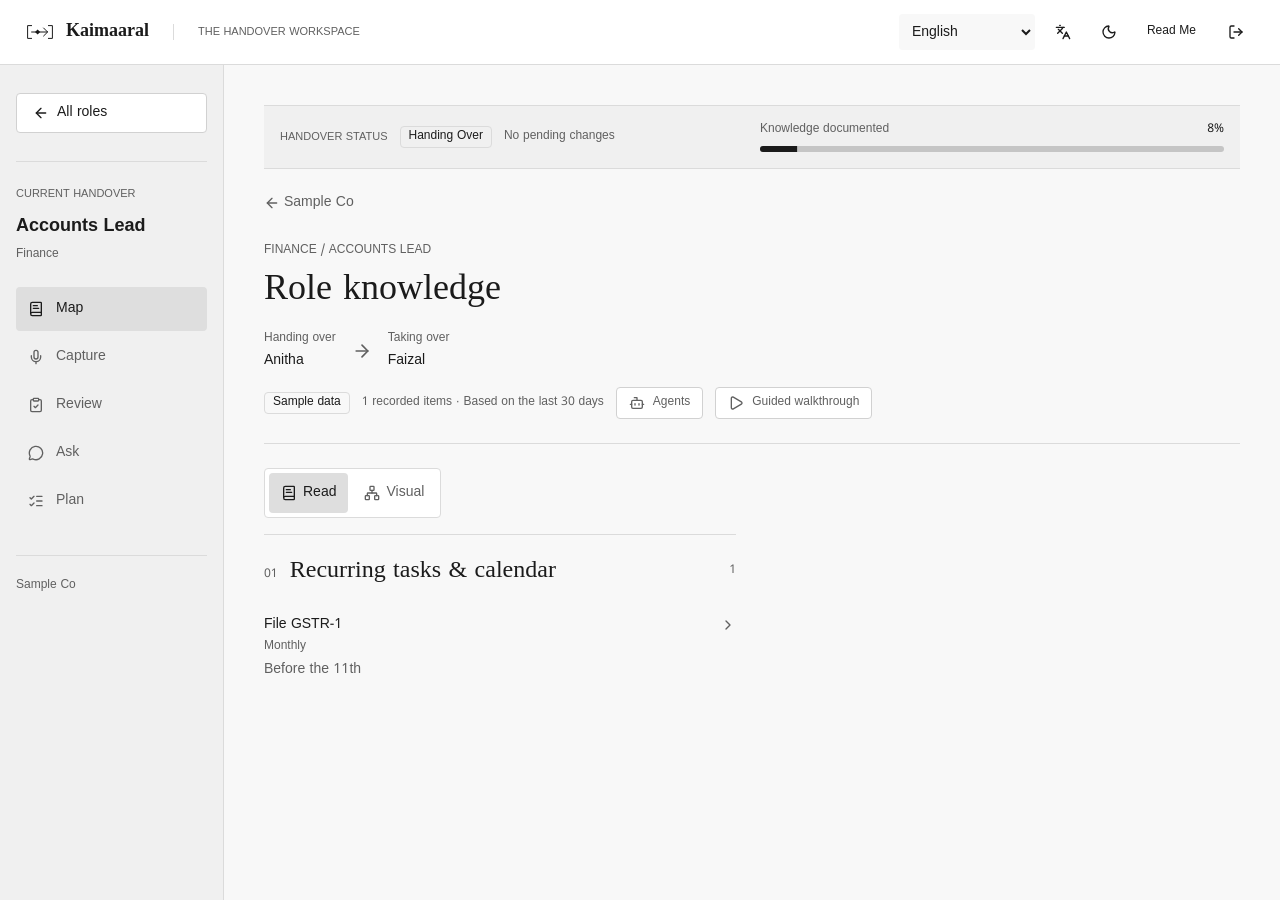
Test case: Role page tabs › Capture tab opens the recorder
This screenshot has width=1280, height=900.
What coordinates should you click on to do the following:
click the tab "Capture"
I would click on:
 (112, 357)
Its box is [16,335,207,379].
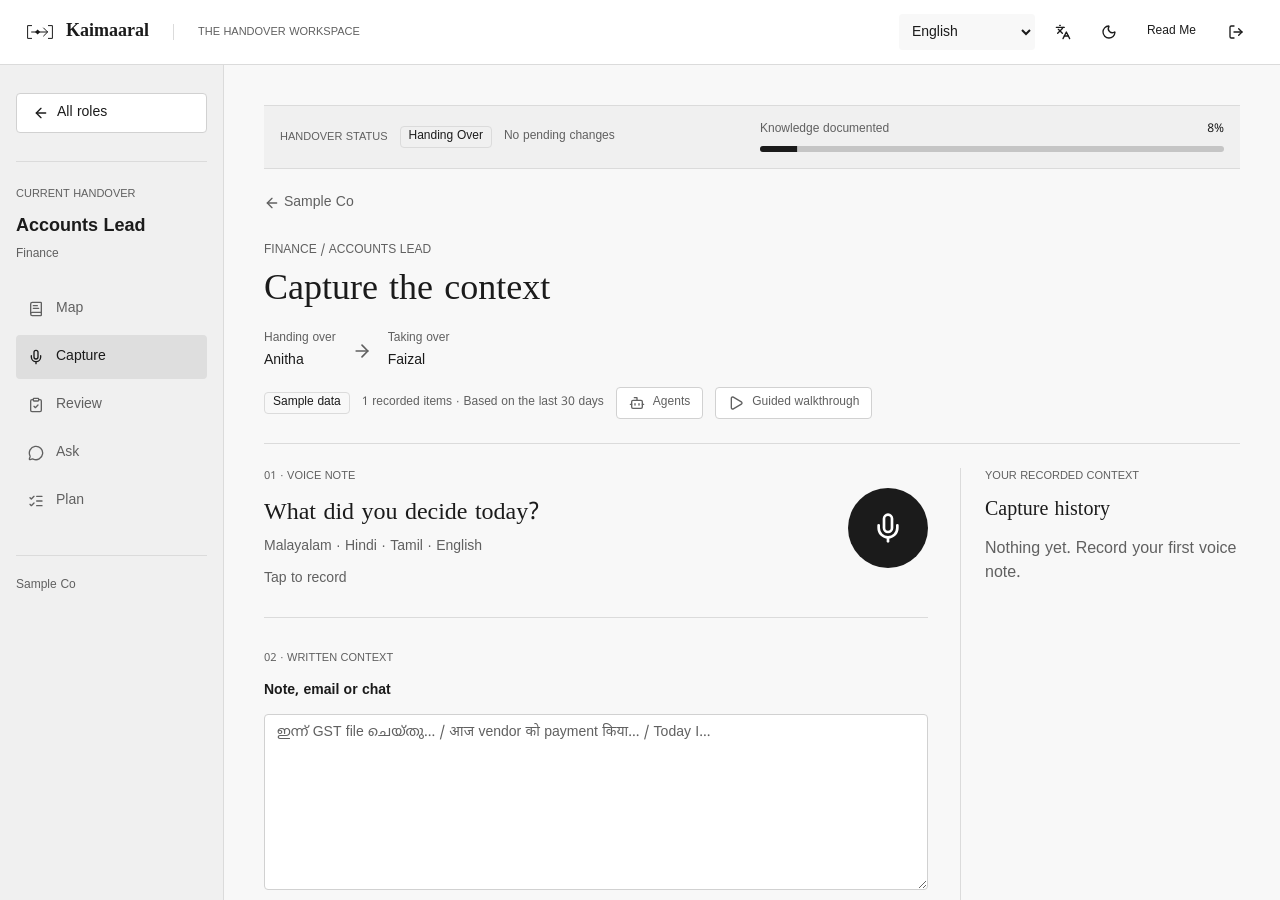
expect the heading "What did you decide today?" is shown: met, box [264,498,539,528]
